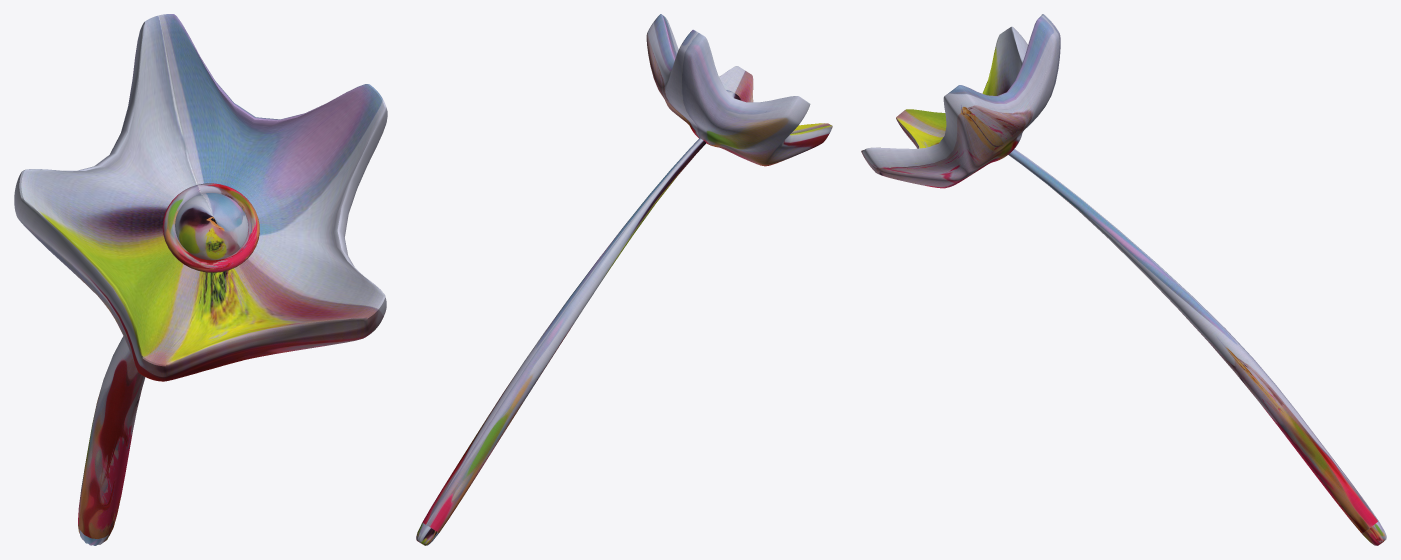
Rendered from stemflower.004.gltf.
The picture shows the model from 3 angles, left to right: view 1: azimuth 30°, elevation 25°; view 2: azimuth 150°, elevation 25°; view 3: azimuth 270°, elevation 25°; orthographic projection. The views are drawn at different scales.
Parts seen in each view (by area): view 1: stemflower.004; view 2: stemflower.004; view 3: stemflower.004.
Boxes of the visible parts, x1,y1,x2,y2 form: stemflower.004: (14, 14, 387, 545); stemflower.004: (416, 14, 832, 545); stemflower.004: (861, 14, 1386, 545).
Size of the model in its own units: 7.73 by 14.42 by 14.72.
Materials: 1 (1 with a texture image).
